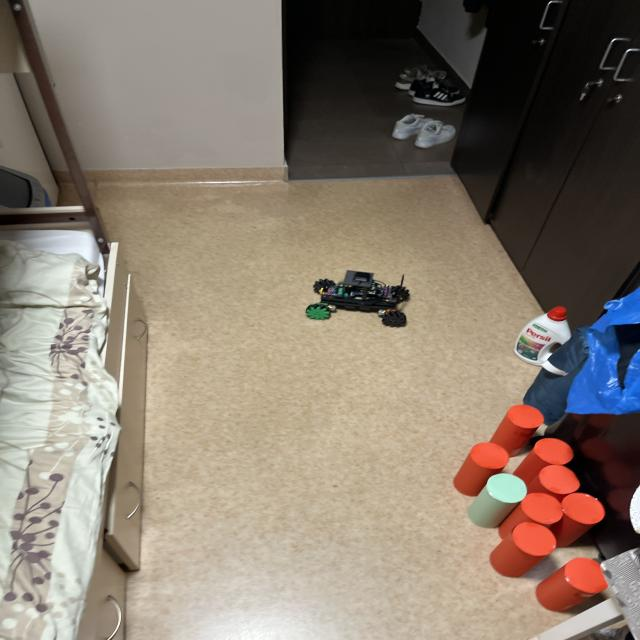robot: (306, 270, 409, 327)
